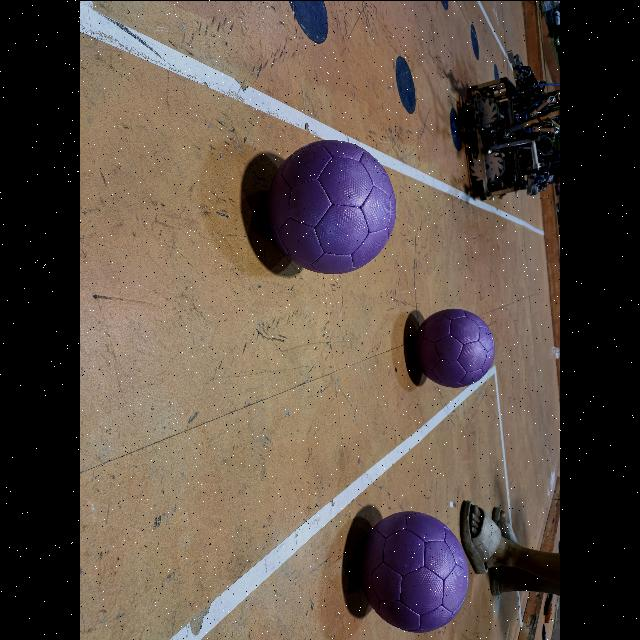P: (266, 139, 396, 273), (359, 511, 469, 632), (414, 308, 496, 386)
